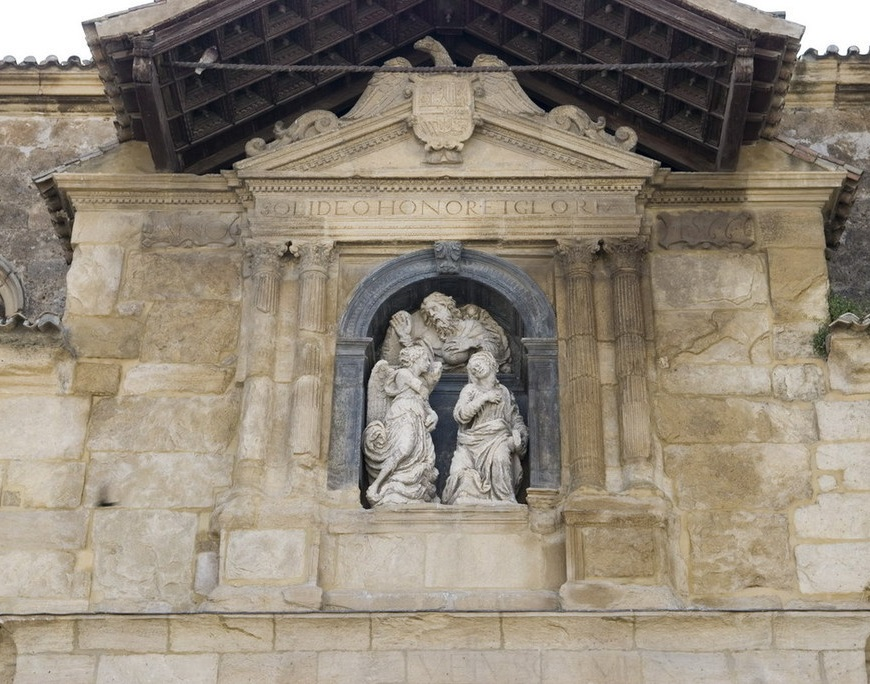fronton: (232, 94, 672, 195)
